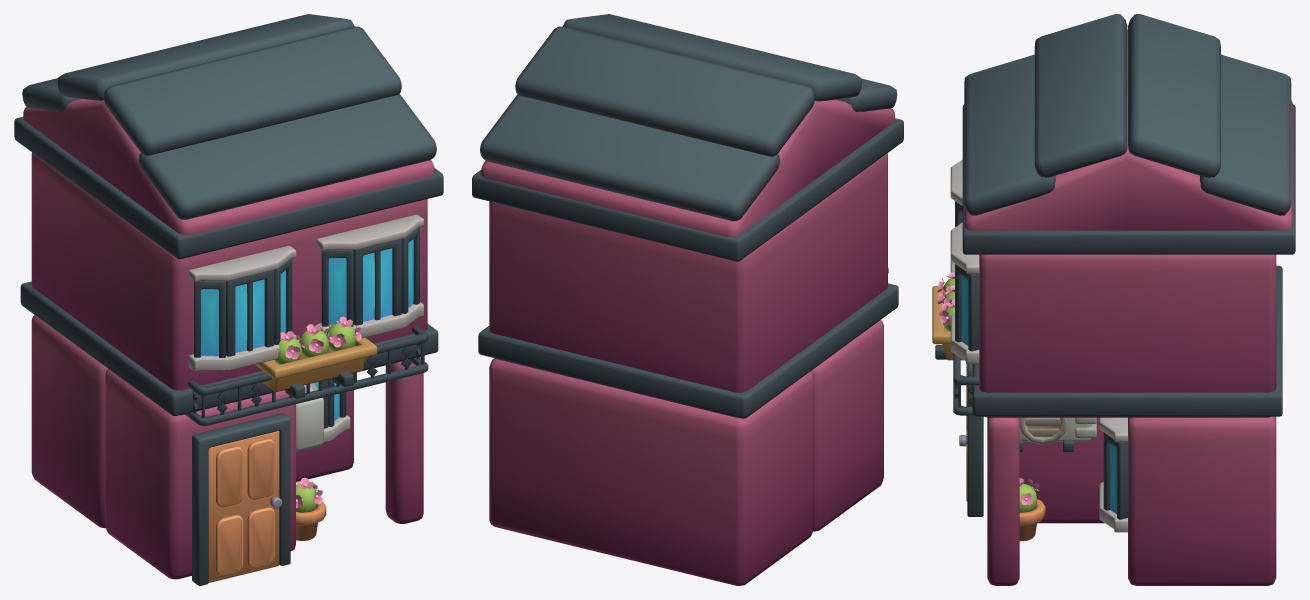
The model's file is mct_build_full_house08.fbx.
3 renders of one model, left to right at view 1: azimuth 30°, elevation 25°; view 2: azimuth 150°, elevation 25°; view 3: azimuth 270°, elevation 25°, orthographic.
Parts seen in each view (by area): view 1: mct_build_full_house_08, mct_door.008; view 2: mct_build_full_house_08; view 3: mct_build_full_house_08.
Part boxes in pixels (x1,y1,x2,y2): mct_build_full_house_08: (14, 14, 443, 585); mct_door.008: (208, 431, 282, 582); mct_build_full_house_08: (472, 14, 903, 585); mct_build_full_house_08: (932, 14, 1295, 585).
Size of the model in its own units: 417 by 672 by 489.
